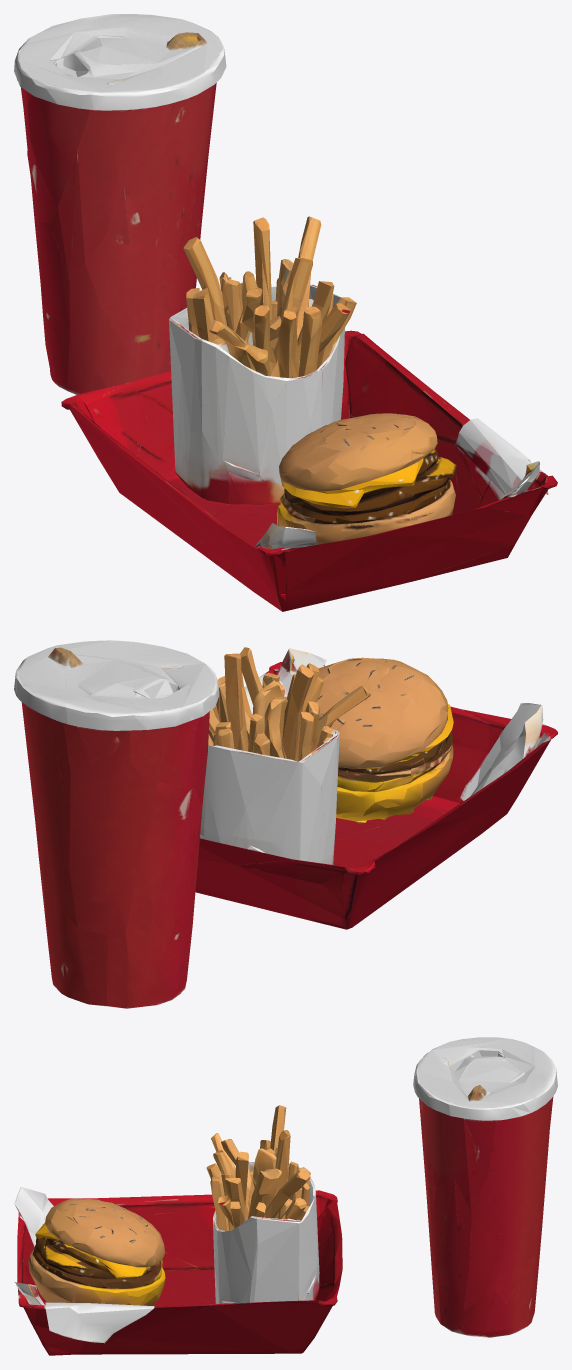
3 renders of one model, top to bottom at view 1: azimuth 30°, elevation 25°; view 2: azimuth 150°, elevation 25°; view 3: azimuth 270°, elevation 25°, orthographic. The views are drawn at different scales.
Size of the model in its own units: 0.9725 by 0.9757 by 1.9.
Materials: 1 (1 with a texture image).
